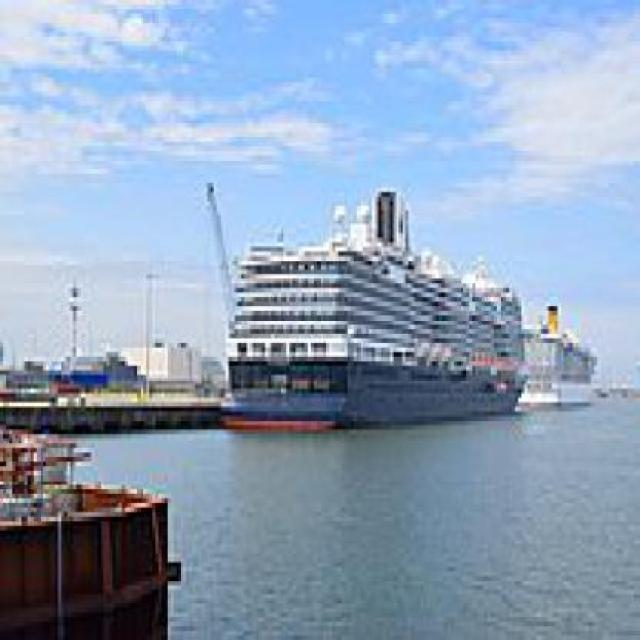cruise: (214, 179, 540, 445)
